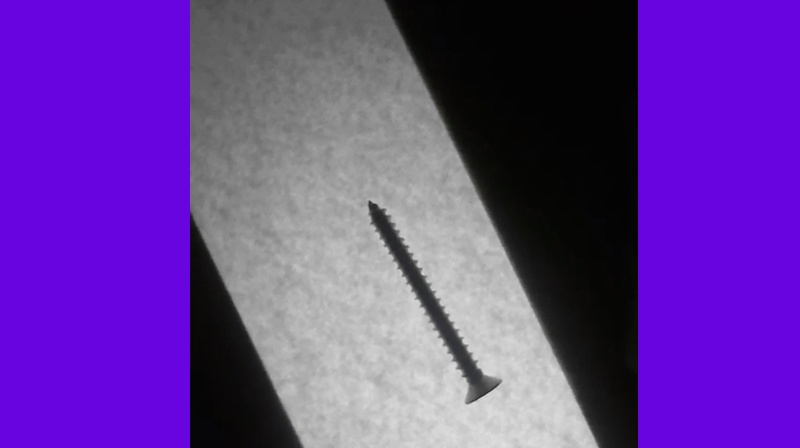S002: (364, 195, 504, 407)
